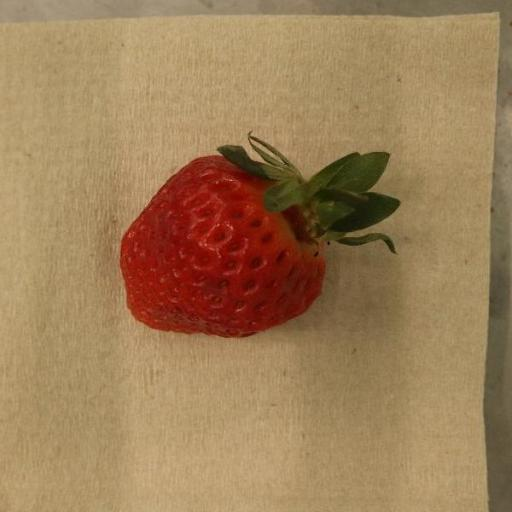Strawberry: (120, 135, 402, 339)
